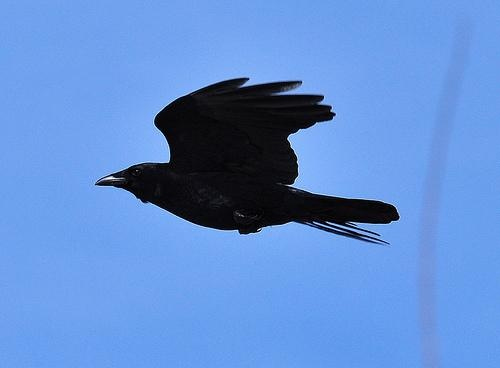bird: (90, 76, 399, 252)
